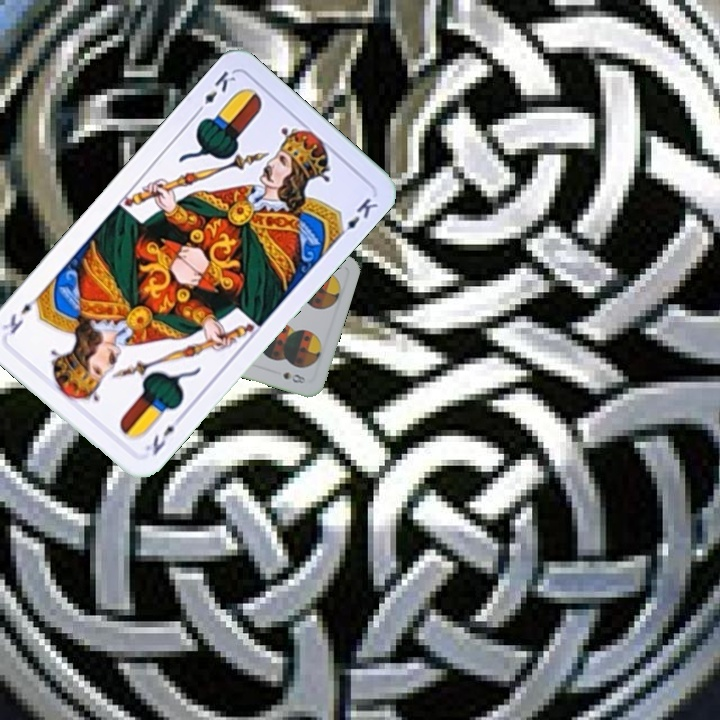EK: (191, 66, 239, 118), (141, 410, 186, 458)
